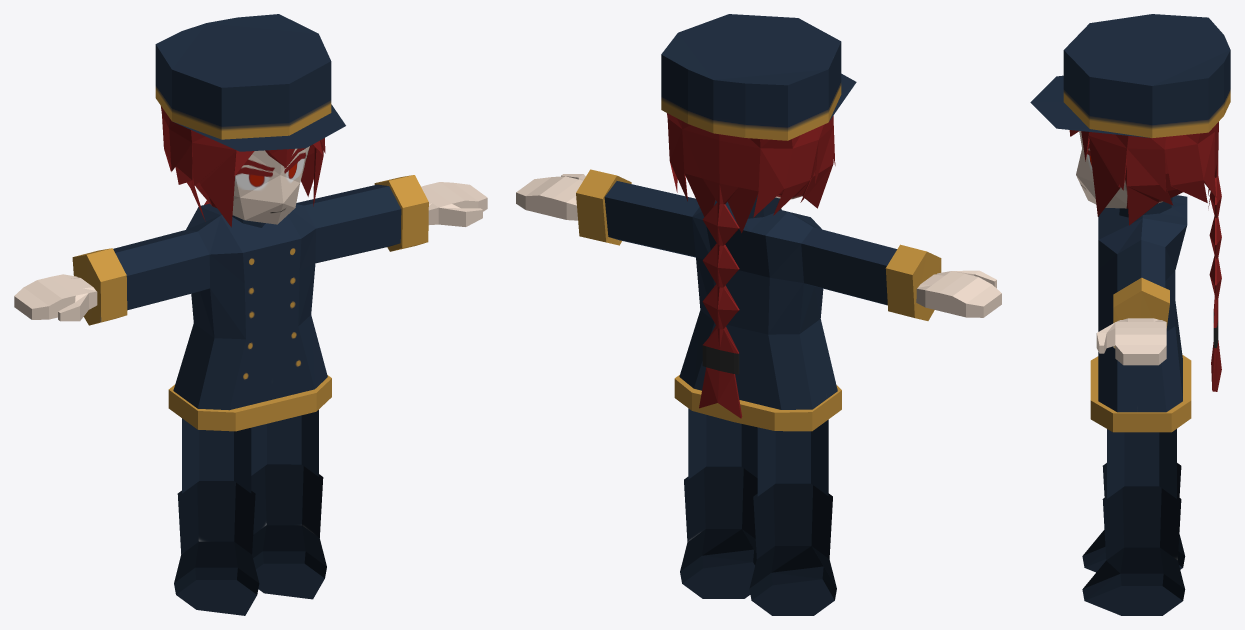
The model's file is MataraelFinal.fbx.
3 renders of one model, left to right at view 1: azimuth 30°, elevation 25°; view 2: azimuth 150°, elevation 25°; view 3: azimuth 270°, elevation 25°, orthographic. The views are drawn at different scales.
Parts seen in each view (by area): view 1: Plane.001, Plane.002; view 2: Plane.001, Plane.002; view 3: Plane.001, Plane.002.
Part boxes in pixels (<box>): Plane.001: <box>14,14,487,615</box>; Plane.002: <box>161,106,325,227</box>; Plane.001: <box>516,14,1001,615</box>; Plane.002: <box>667,113,835,418</box>; Plane.001: <box>1030,14,1230,615</box>; Plane.002: <box>1069,122,1221,391</box>.
Size of the model in its own units: 152 by 169 by 57.28.
